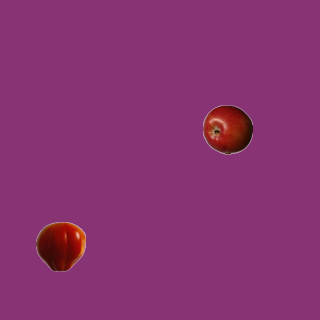Apple Braeburn: (202, 104, 252, 154)
Tomato 1: (35, 221, 85, 271)
